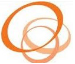hanwhaciw: (1, 1, 75, 64)
